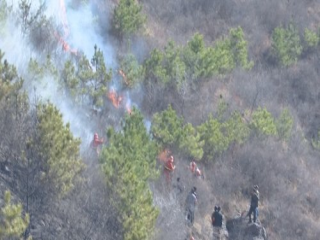fire: (53, 2, 80, 55), (108, 87, 122, 113)
smoke: (3, 4, 112, 113)
